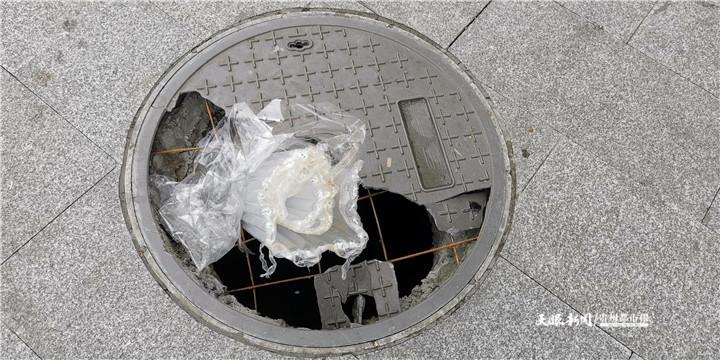broke: (111, 6, 524, 349)
